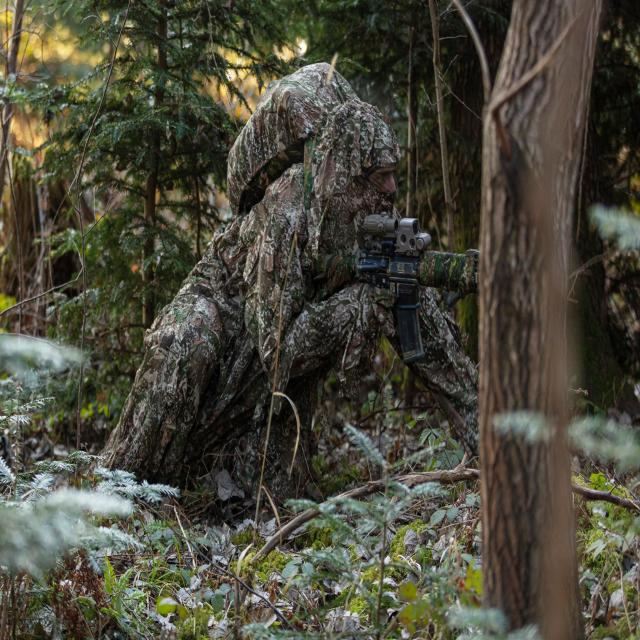Human: (113, 63, 483, 481)
